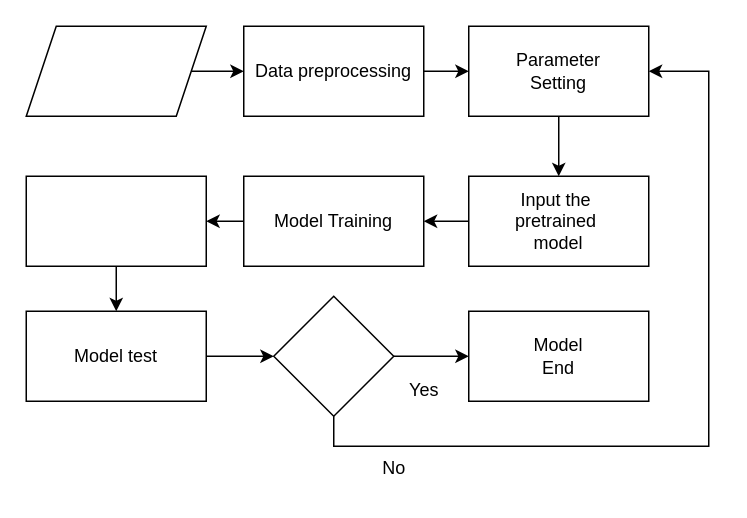
Image size: 747x518. Some labels were removed from this diagram. Here are the shapes that lost their labels. From the top down, the centre of each, then its label:
the point at 115,70: Input Data
the point at 115,220: Parameter optimization
the point at 333,355: Threshold Check
